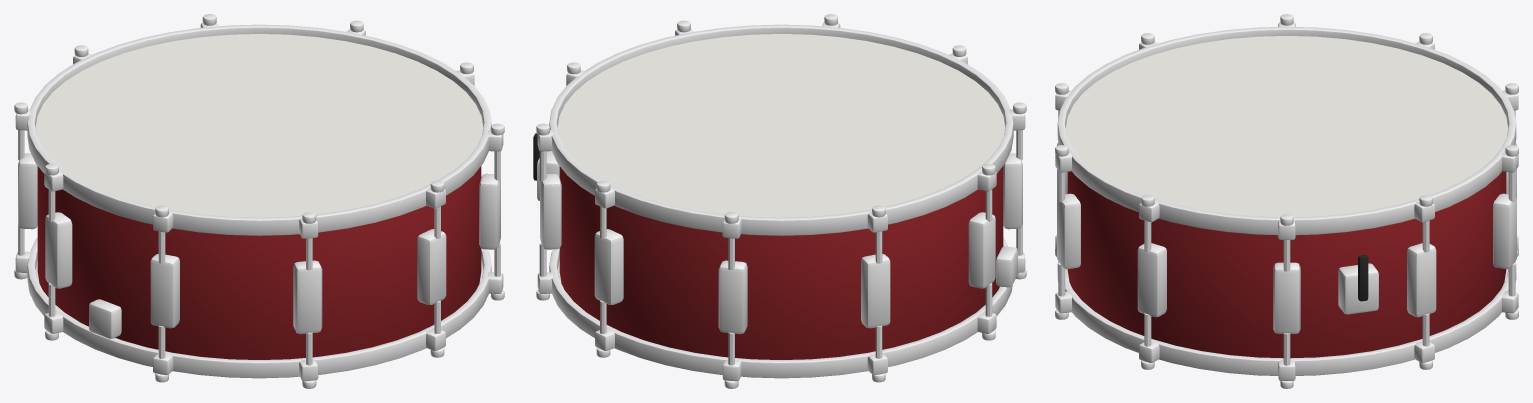
File: Snare.fbx
3 views of the same model, side by side, from view 1: azimuth 30°, elevation 25°; view 2: azimuth 150°, elevation 25°; view 3: azimuth 270°, elevation 25° (orthographic).
Parts seen in each view (by area): view 1: SnareDrum; view 2: SnareDrum; view 3: SnareDrum.
Boxes of the visible parts, box(x1,y1,x2,y2) form: SnareDrum: box(14, 14, 504, 388); SnareDrum: box(533, 14, 1026, 388); SnareDrum: box(1055, 14, 1518, 388).
Bounding box in the file's own units: 39.5 × 15.2 × 37.62.
